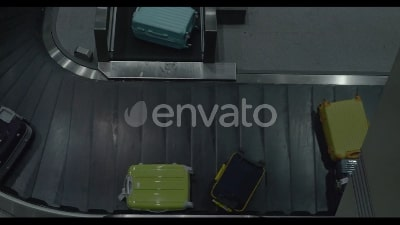baggage: (204, 148, 268, 216), (119, 159, 196, 211), (315, 94, 370, 160), (133, 8, 202, 51), (2, 103, 38, 173)
